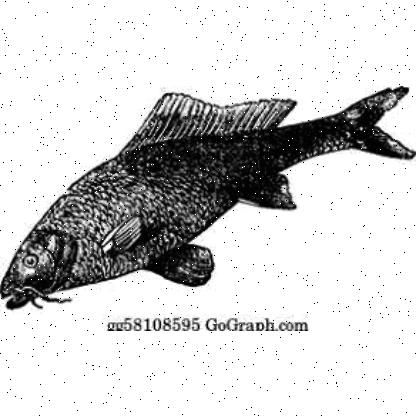ikan-mas: (0, 85, 404, 307)
